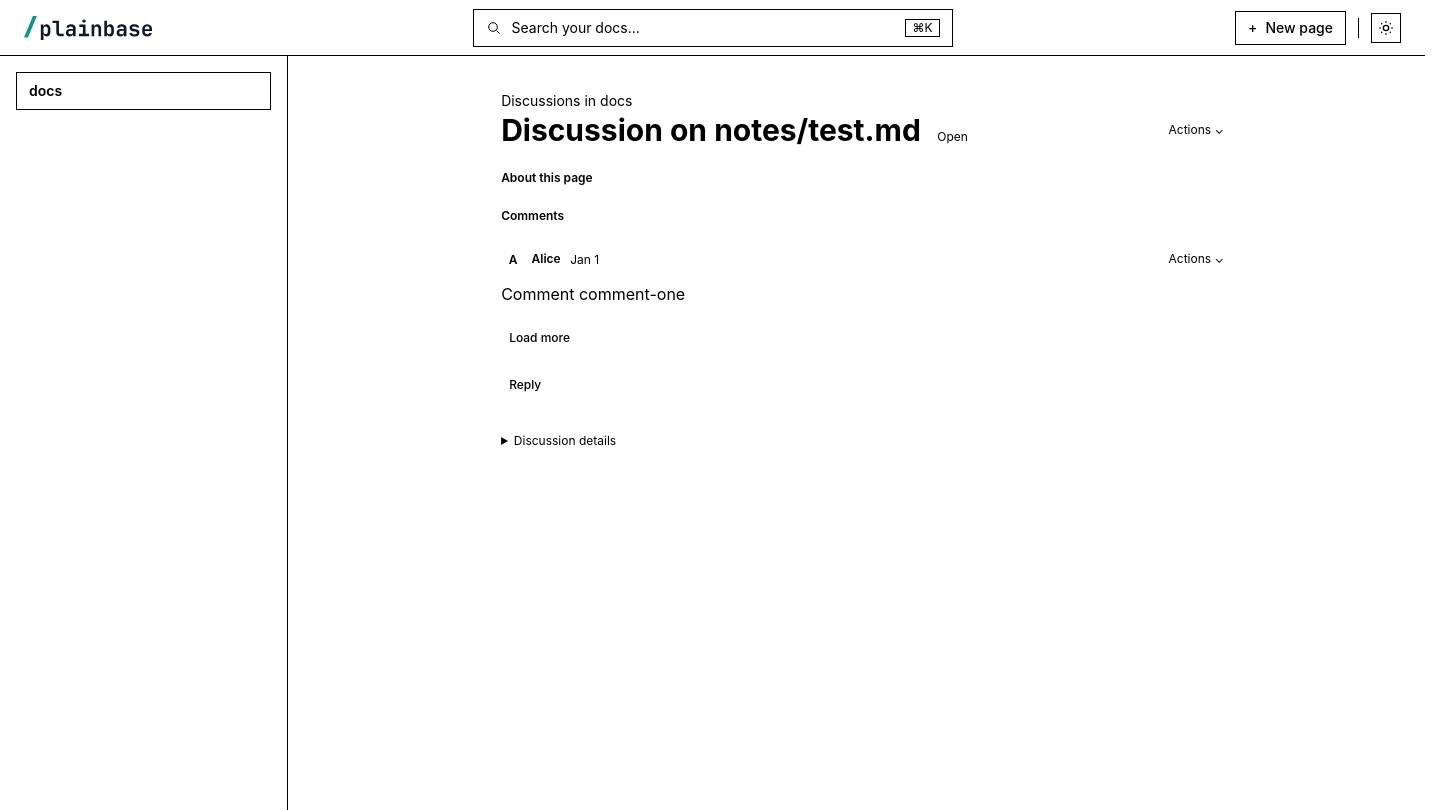
Test: discussion reads › loads later comments with the server cursor and deduplicates repeated boundaries
The image size is (1440, 810).
Click the button "Load more": click(540, 339) [501,326,578,351]
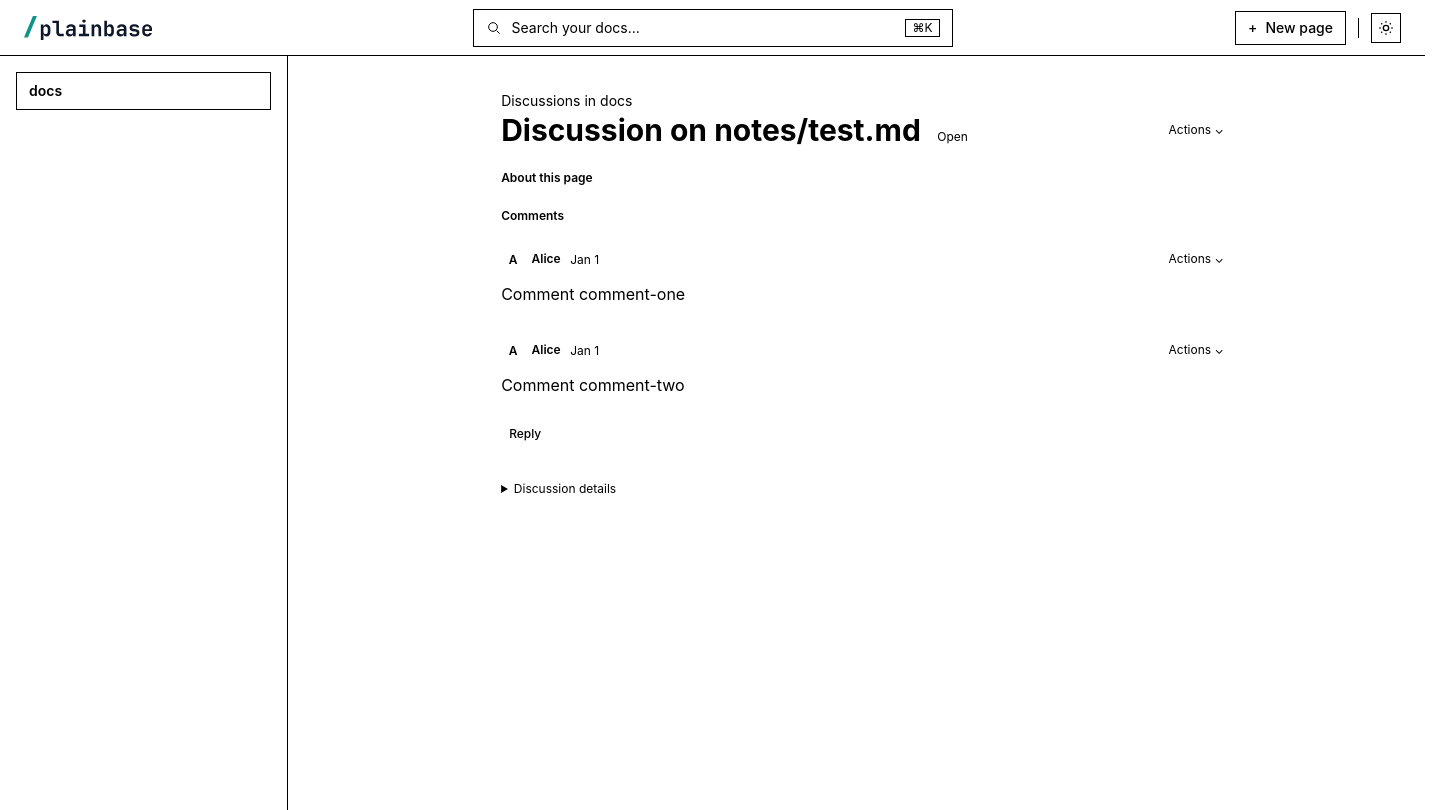
expect the text "Comment comment-two" is shown: met, box [501,375,685,395]
expect the text "Comment comment-one" is shown once: met, box [501,284,685,304]
expect the button "Load more" is gone: met
